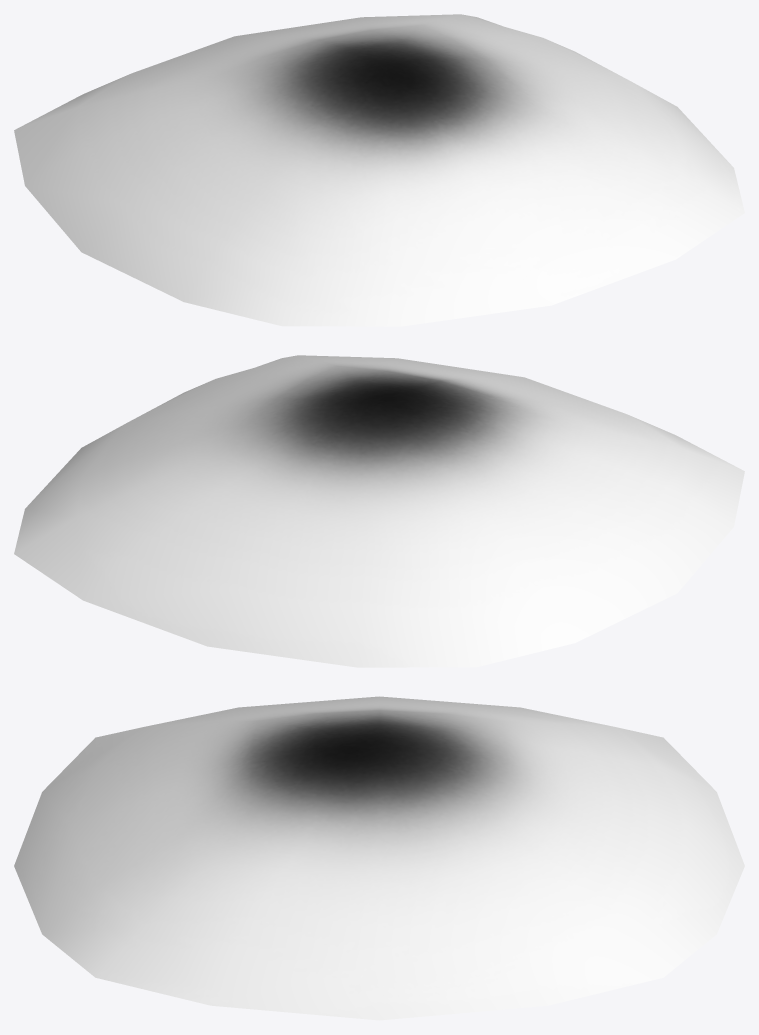
The model's file is CloudsDome.FBX.
3 renders of one model, top to bottom at view 1: azimuth 30°, elevation 25°; view 2: azimuth 150°, elevation 25°; view 3: azimuth 270°, elevation 25°, orthographic. The views are drawn at different scales.
Visible parts, largest first — view 1: CloudsDome001; view 2: CloudsDome001; view 3: CloudsDome001.
Boxes of the visible parts, x1,y1,x2,y2 form: CloudsDome001: (14, 14, 744, 326); CloudsDome001: (14, 355, 744, 667); CloudsDome001: (14, 696, 744, 1020).
Bounding box in the file's own units: 1025 × 197 × 1025.
1 material, 1 textured.
